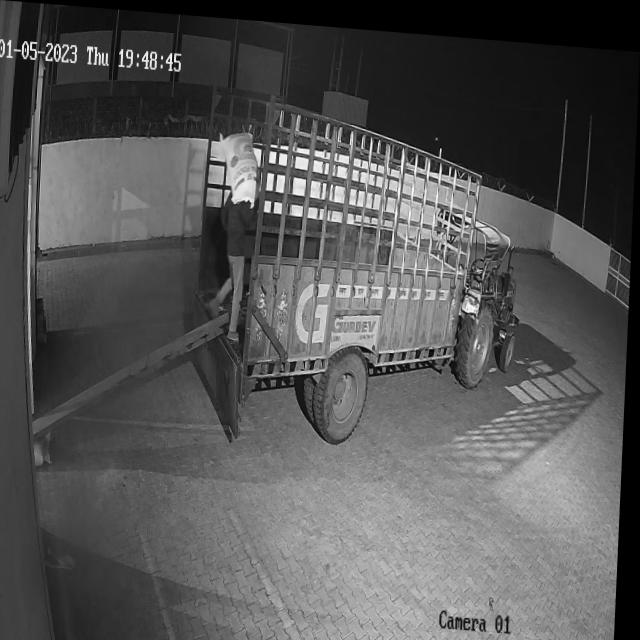sack: (219, 124, 262, 204)
